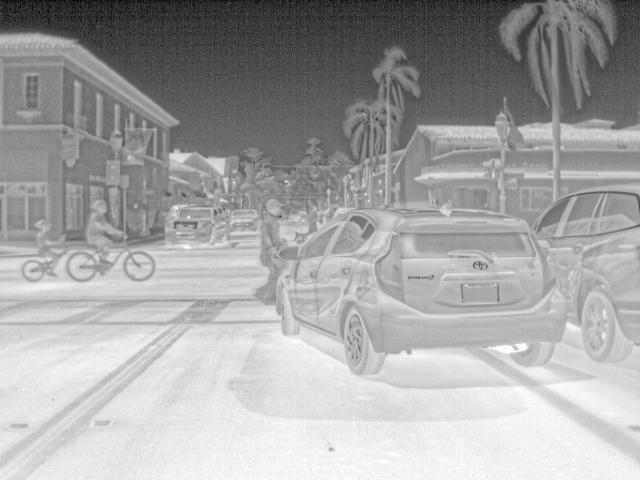car: (276, 205, 566, 378), (534, 180, 637, 363), (163, 202, 232, 248), (229, 209, 260, 232)
person: (82, 200, 126, 272), (258, 198, 287, 304), (32, 222, 63, 278), (303, 204, 320, 237)
